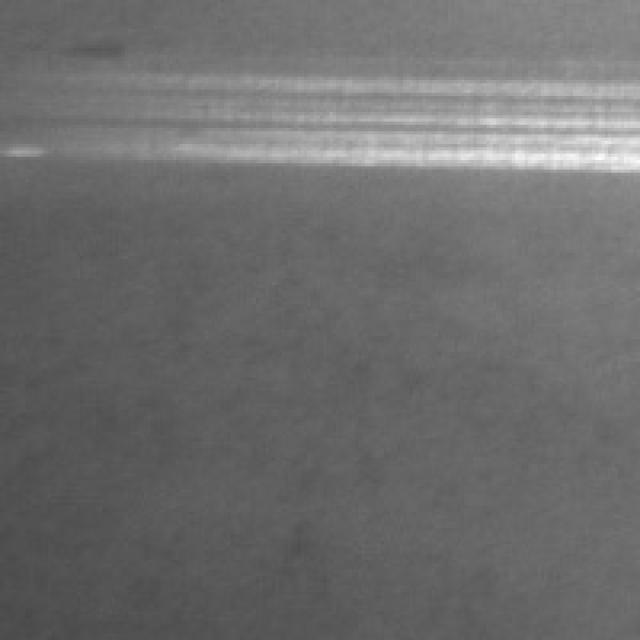scratches: (64, 76, 634, 170)
